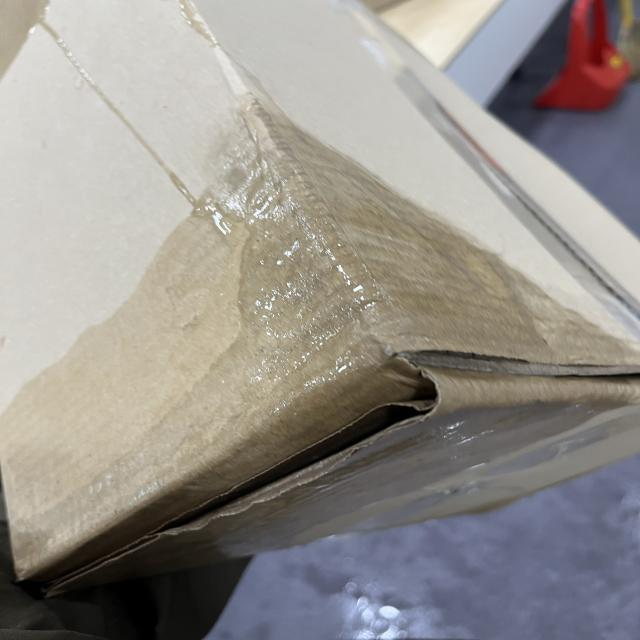wet: (0, 105, 610, 581)
